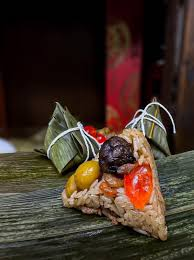zongzi: (62, 128, 166, 240), (43, 103, 100, 172), (126, 98, 175, 158)
